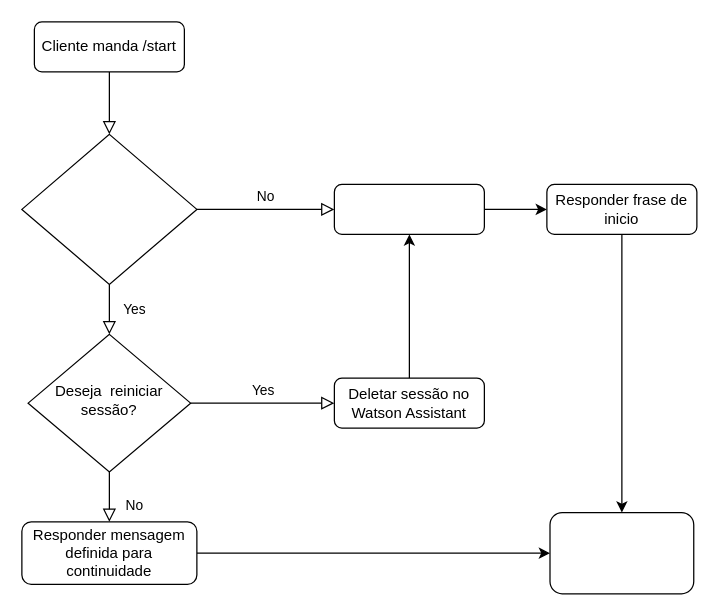
Some shapes in this 719 by 616 pixel diagram are drawn without their labels. Each missing label, with the box of its shape:
Aguardar resposta para enviar ao Watson Assistant: (549, 511, 694, 594)
Criar sessão no Watson Assistant: (333, 183, 484, 234)
id da conversa tem sessão aberta?: (21, 133, 197, 284)
